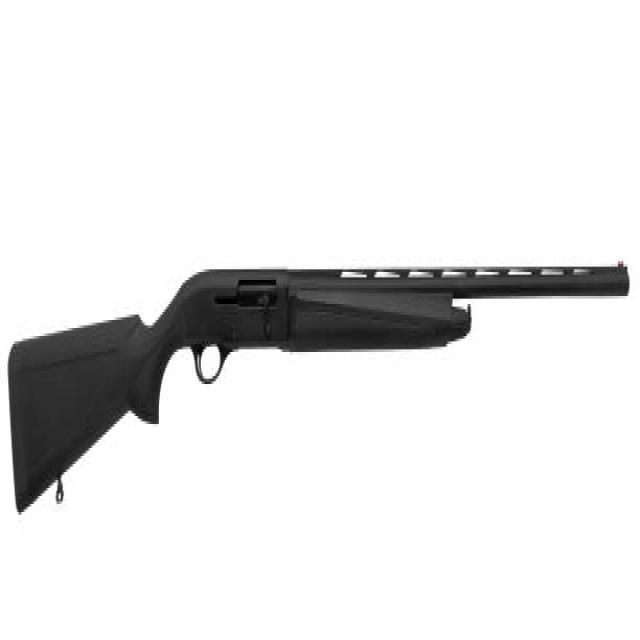rifle: (8, 240, 635, 543)
